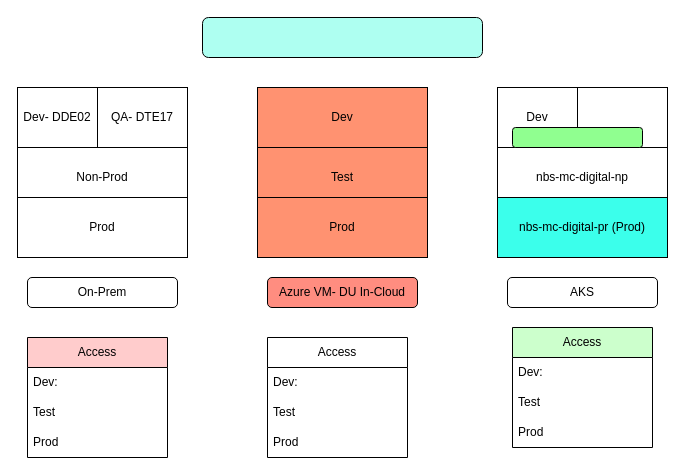
This 685x475 diagram has some shape labels left out. Each missing label, with the box of its shape:
Environment: (202, 16, 482, 58)
nbs-mc-digtal-dev: (512, 126, 642, 148)
QA: (576, 86, 668, 148)
